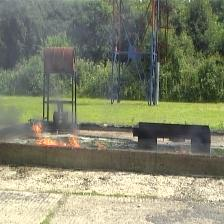fire: (35, 122, 82, 148)
